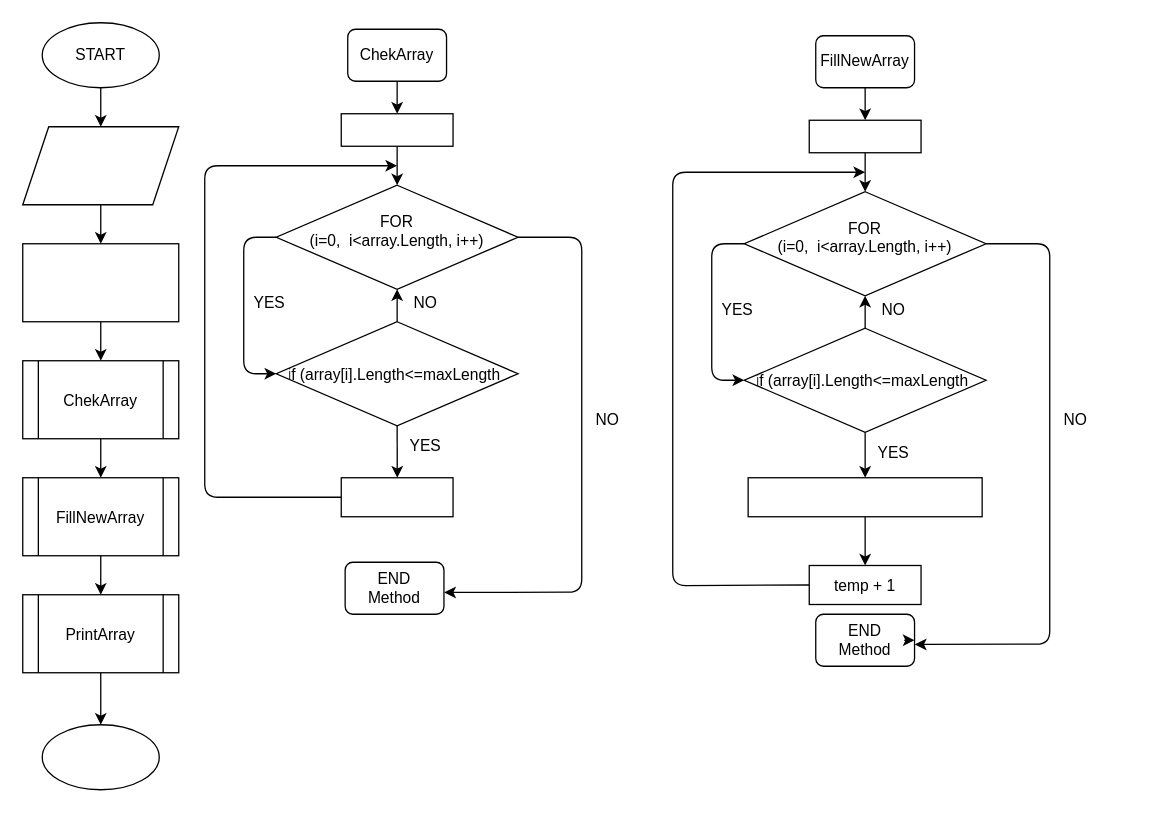
This 1151x813 diagram has some shape labels left out. The box of each missing label's shape, as (x1, y1, x2, y2) in pixels:
END: (41, 723, 159, 790)
int n int maxLength: (21, 125, 179, 205)
newArray[temp] = array[i]: (747, 476, 982, 517)
result + 1: (340, 476, 453, 517)
result = 0: (340, 112, 453, 146)
string array[]: (21, 242, 179, 322)
temp = 0: (808, 119, 921, 153)
